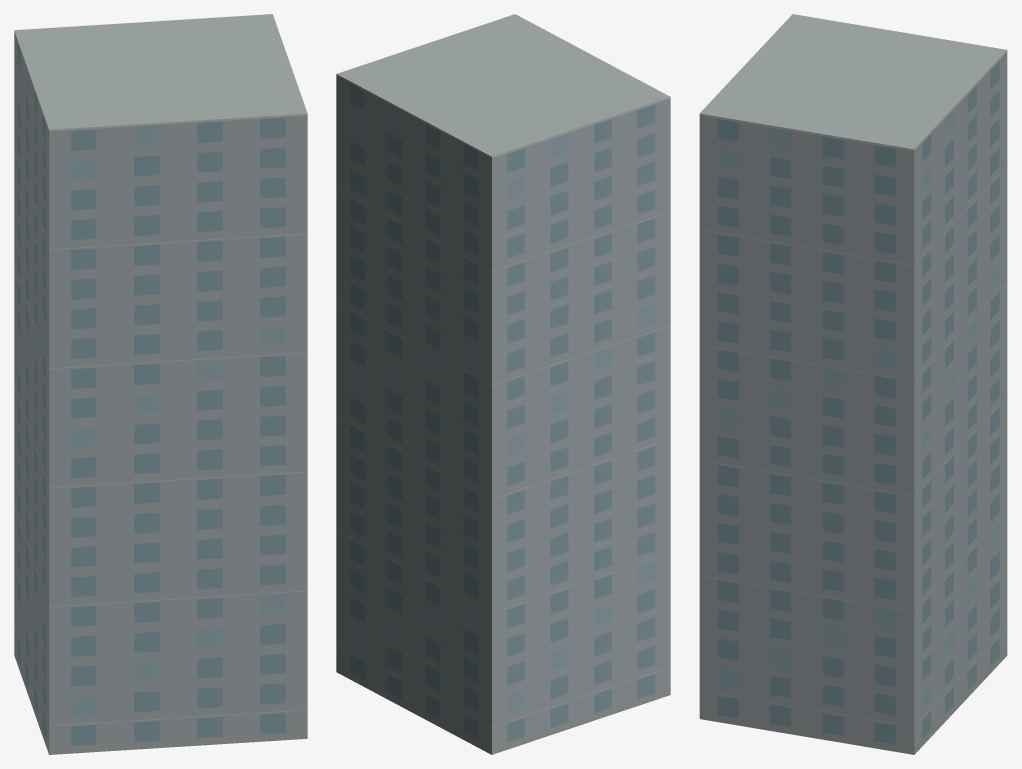
The model's file is residential-f77ee3e0-a34e-486a-88fd-8ceb5272513d.glb.
3 views of the same model, side by side, from view 1: azimuth 30°, elevation 25°; view 2: azimuth 150°, elevation 25°; view 3: azimuth 270°, elevation 25° (orthographic). The views are drawn at different scales.
Parts seen in each view (by area): view 1: residential-f77ee3e0-a34e-486a-88fd-8ceb5272513d.tmp; view 2: residential-f77ee3e0-a34e-486a-88fd-8ceb5272513d.tmp; view 3: residential-f77ee3e0-a34e-486a-88fd-8ceb5272513d.tmp.
Part boxes in pixels (bbox=[...]): residential-f77ee3e0-a34e-486a-88fd-8ceb5272513d.tmp: bbox=[14, 14, 307, 754]; residential-f77ee3e0-a34e-486a-88fd-8ceb5272513d.tmp: bbox=[336, 14, 670, 754]; residential-f77ee3e0-a34e-486a-88fd-8ceb5272513d.tmp: bbox=[699, 14, 1007, 754].
Bounding box in the file's own units: 36.47 × 76 × 35.05.
